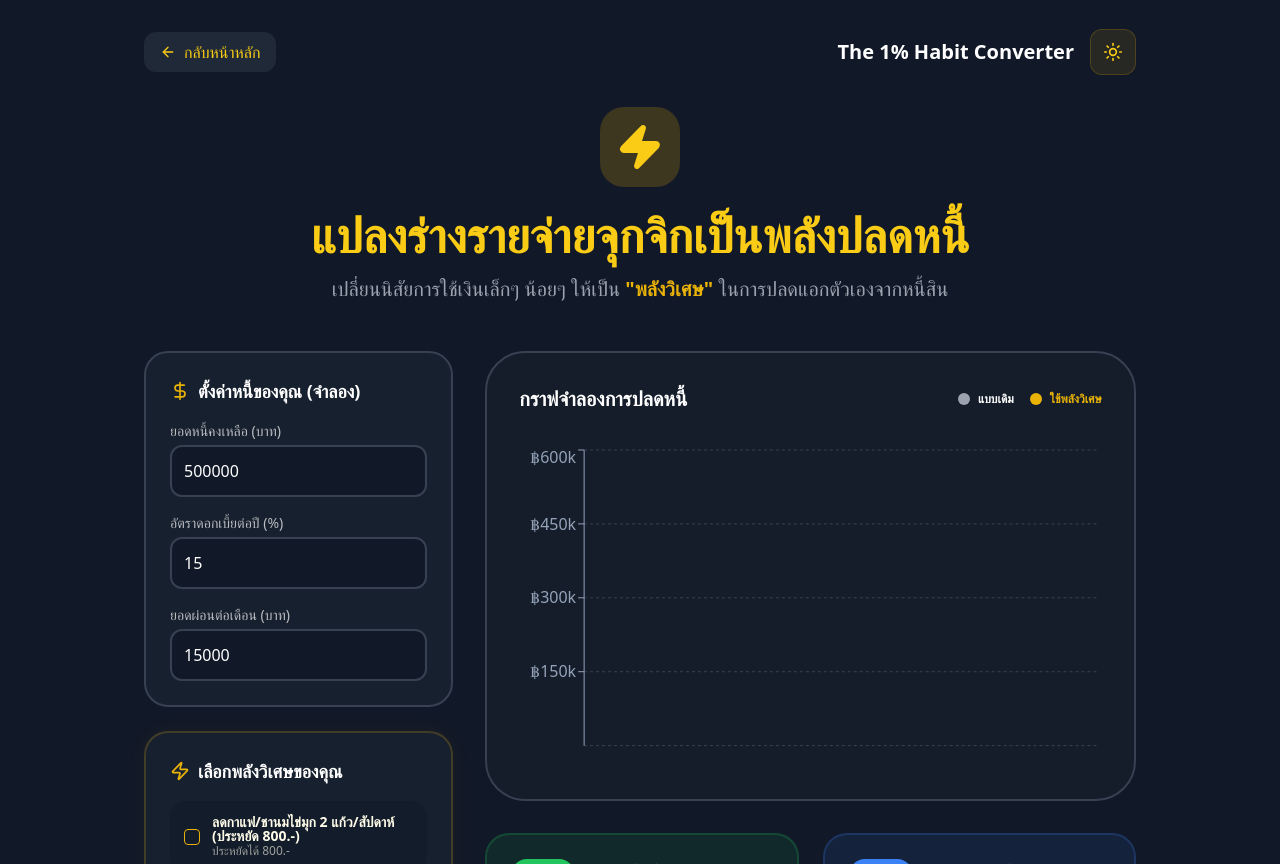
Scenario: HabitConverterPage › updates calculations when a habit is selected
Expected: the text "เยี่ยมมาก!" is not shown
Toggle coffee habit
Step 1. Click the text "ลดกาแฟ" → (303, 822), box [212,815,413,859]
(page scrolled)
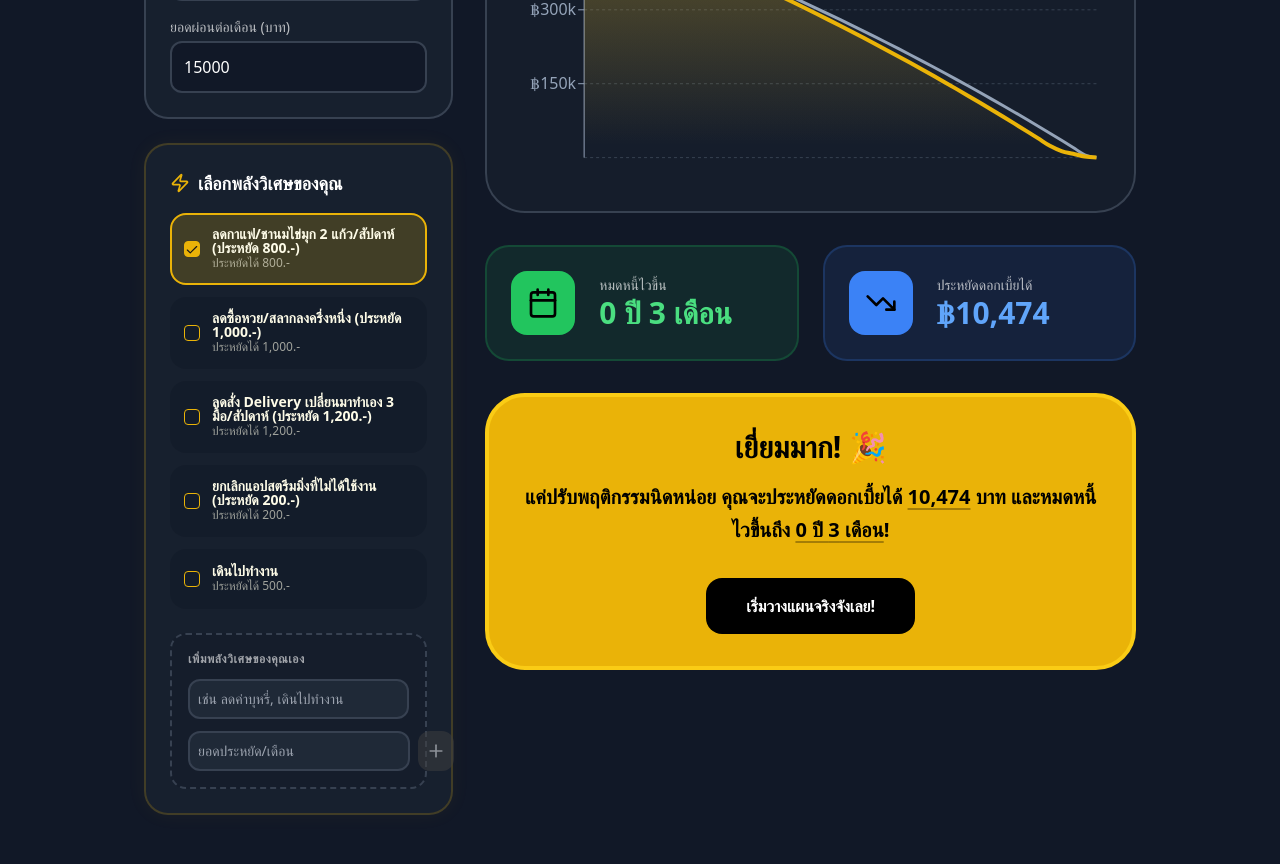
Result: the text "เยี่ยมมาก! 🎉" is shown at [735,426,887,467]
